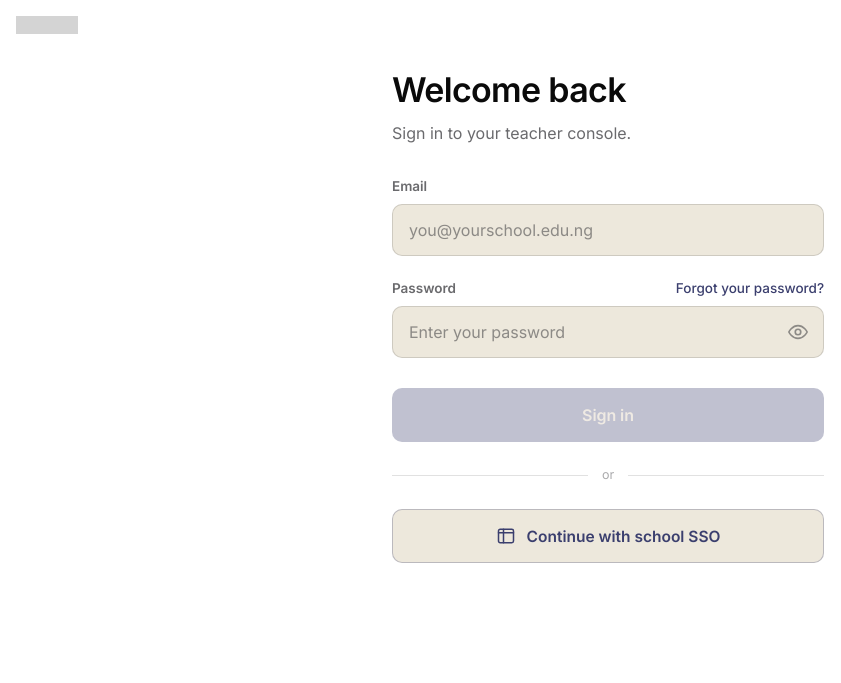
Test: the school SSO button › says plainly that school sign-in is not set up
What coordinates should you click on to do the following:
click the button "Continue with school SSO"
I would click on:
 (608, 536)
Its box is top-left (392, 509), bottom-right (824, 563).
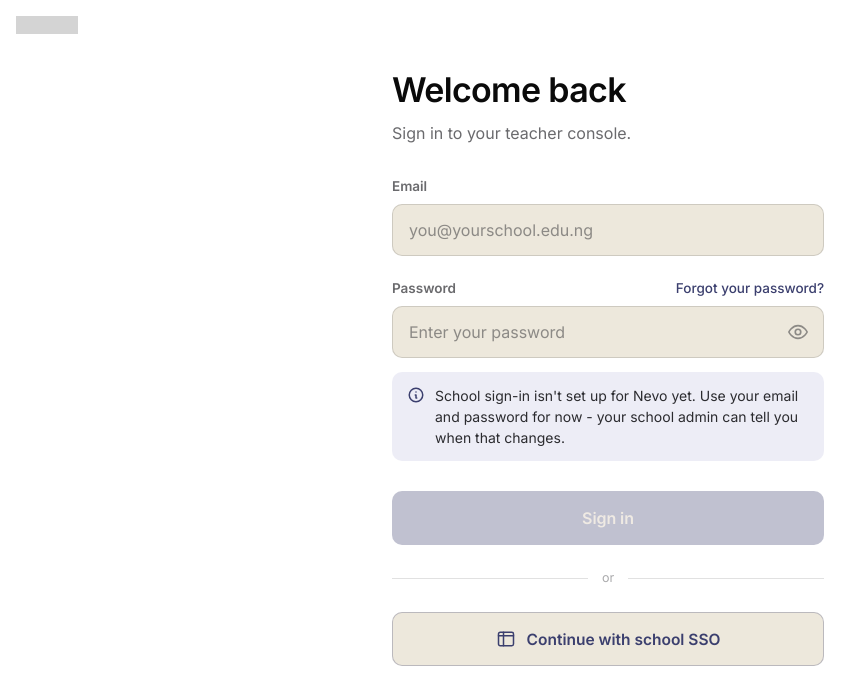
Now the text "School sign-in isn't set up for Nevo yet" is shown, box top-left (435, 387), bottom-right (798, 446)
